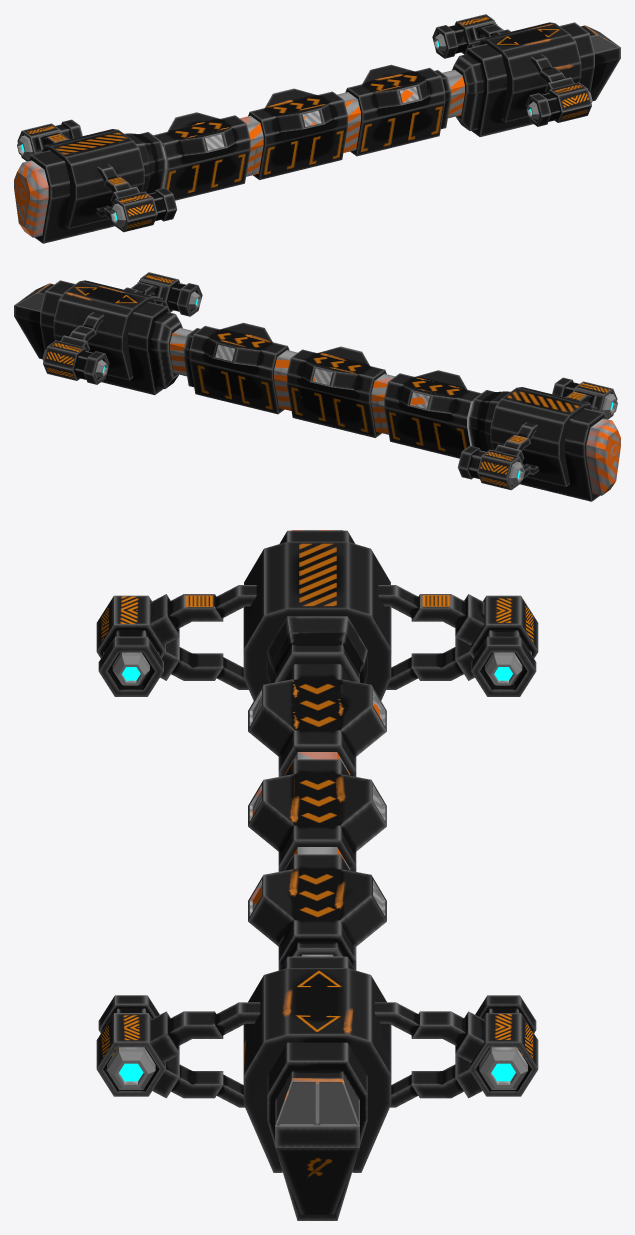
3 views of the same model, one above another, from view 1: azimuth 30°, elevation 25°; view 2: azimuth 150°, elevation 25°; view 3: azimuth 270°, elevation 25° (orthographic). The views are drawn at different scales.
Visible parts, largest first — view 1: Engine_back; view 2: Engine_back; view 3: Engine_back.
Part boxes in pixels (left/top/right/bottom): Engine_back: left=14, top=14, right=620, bottom=243; Engine_back: left=14, top=272, right=620, bottom=501; Engine_back: left=96, top=530, right=538, bottom=1220.
Size of the model in its own units: 39.24 by 5.32 by 12.75.
Materials: 4 (3 with a texture image).
